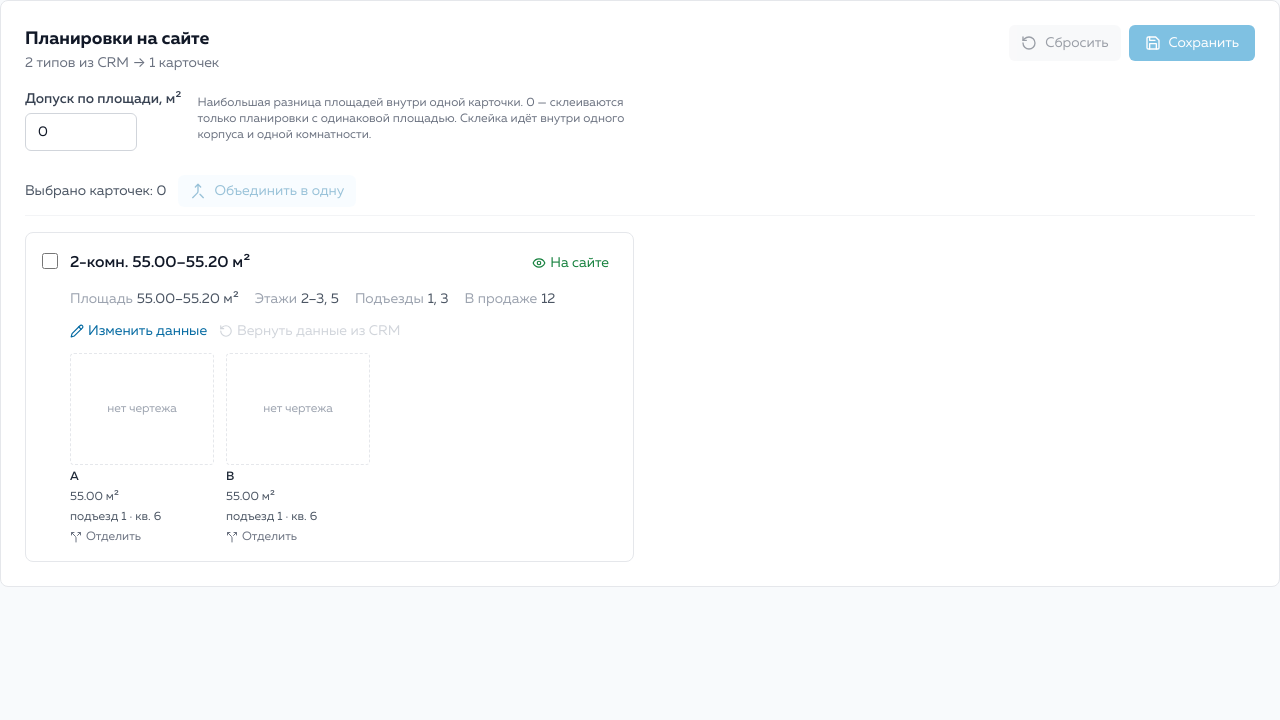
Scenario: PlanGroupingPanel — группа › ручная площадь: пометка «локально», рядом значение CRM, в превью — правка по якорю
Click the button "Изменить данные" at {"x": 138, "y": 331}, box x1=70 y1=321 x2=207 y2=341
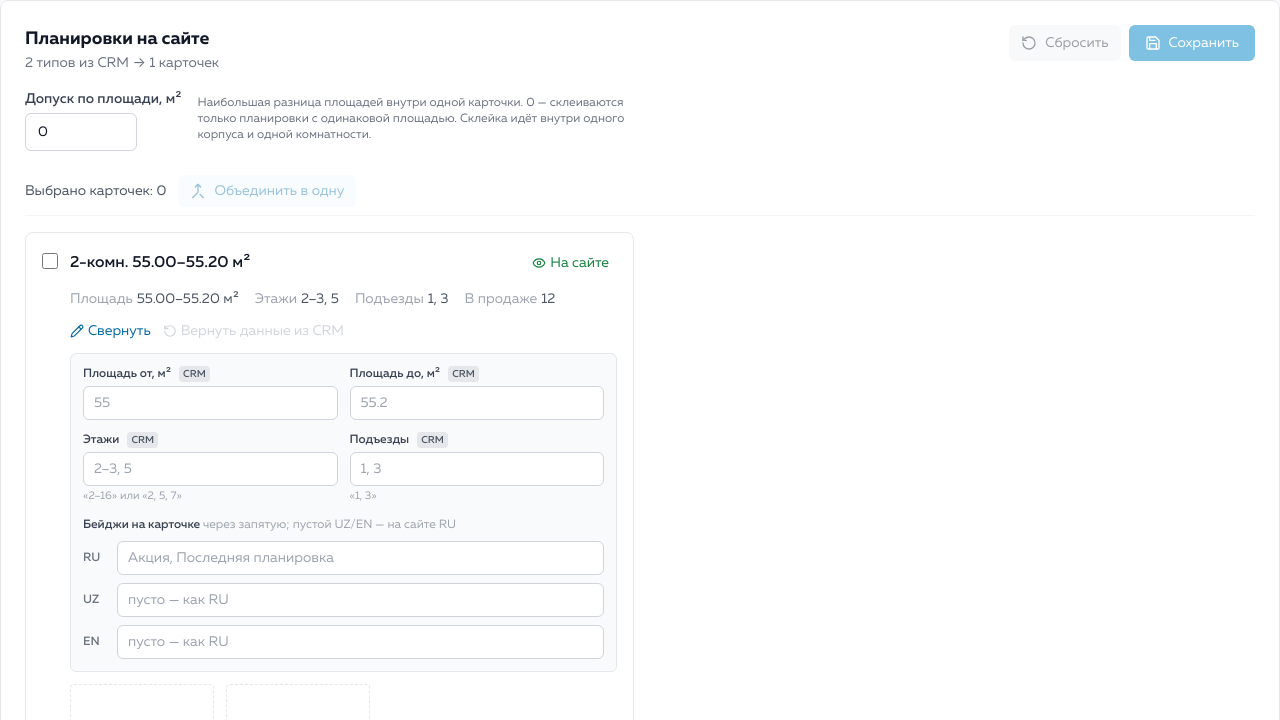
Type "54,5" into the field labelled "Площадь от, м²" at {"x": 210, "y": 403}, box x1=83 y1=386 x2=338 y2=420
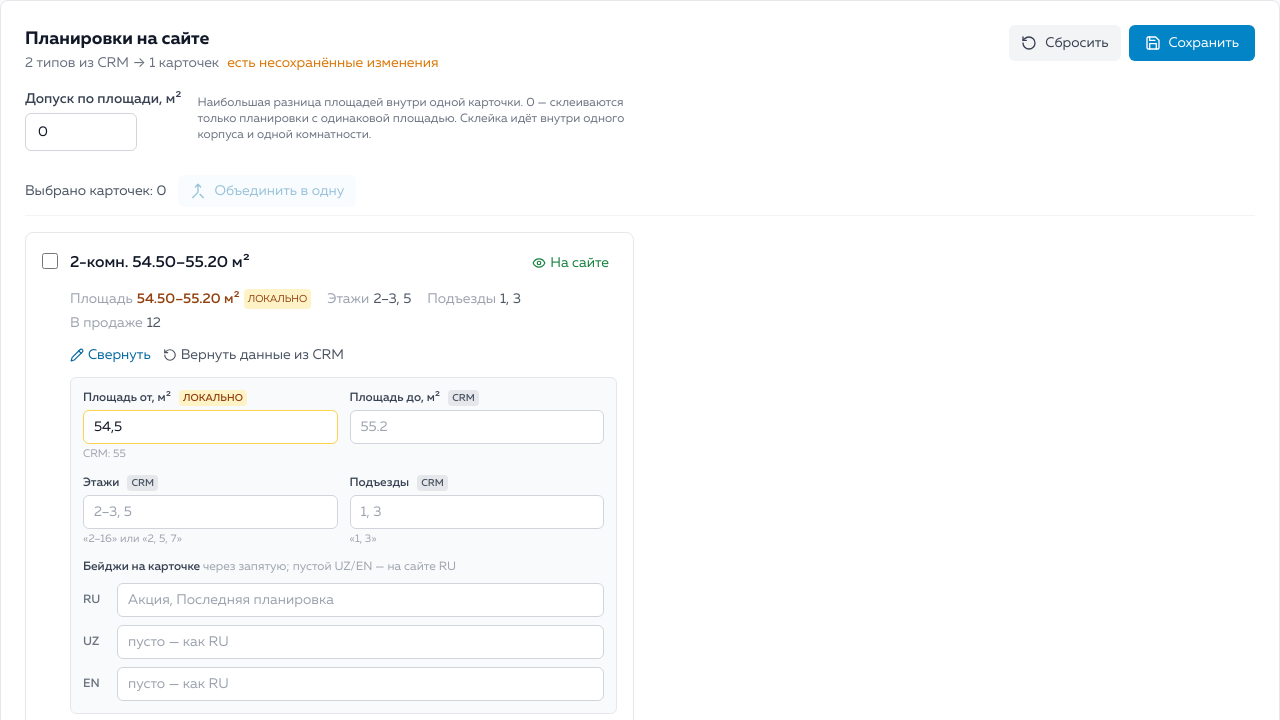
Check: the text "CRM: 55" is shown, box x1=83 y1=448 x2=126 y2=459
Check: the text "54.50–55.20 м²" is shown, box x1=137 y1=289 x2=240 y2=309
